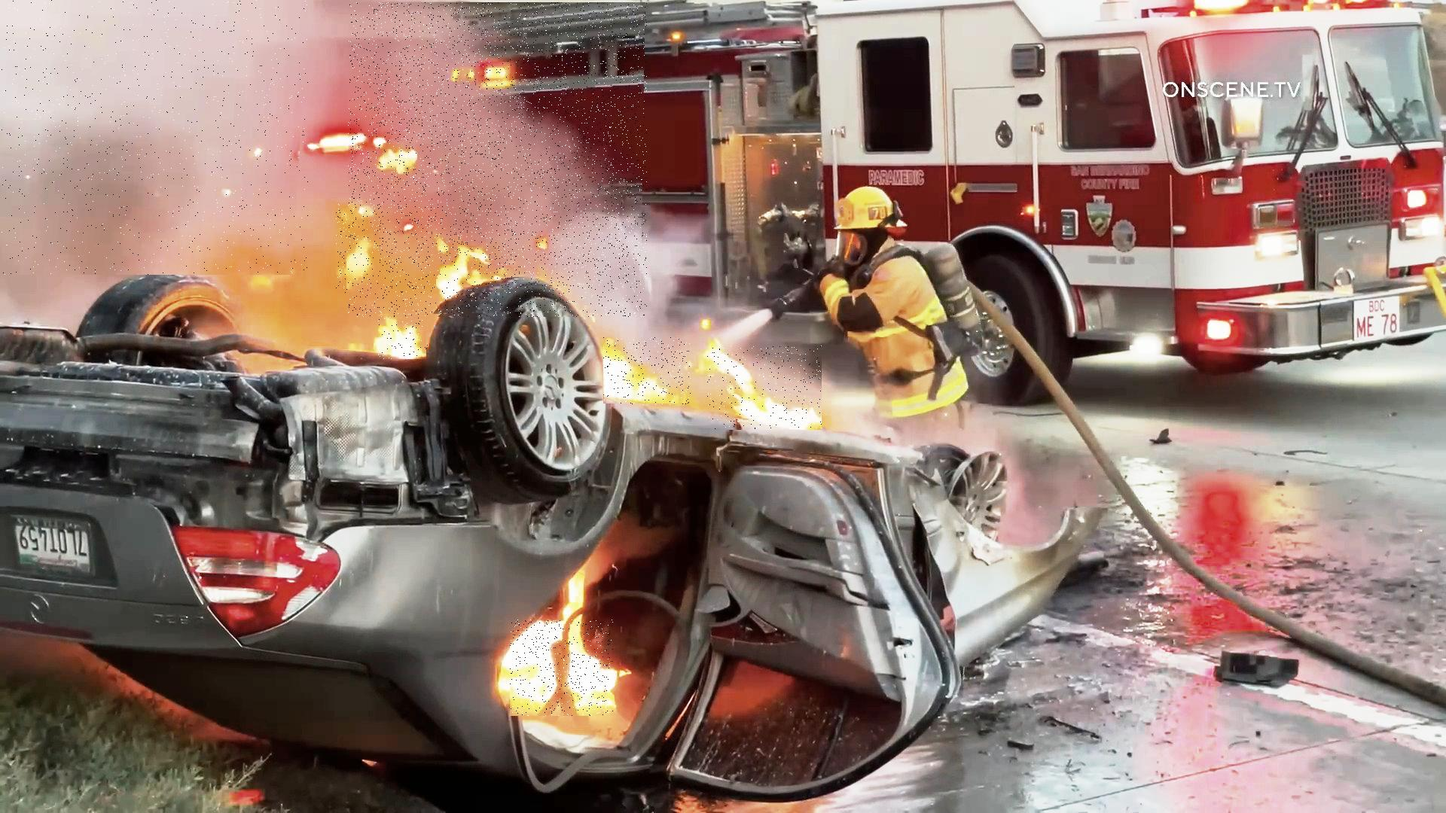fire: (510, 620, 613, 716), (707, 345, 822, 430), (603, 338, 691, 405), (434, 231, 508, 309), (337, 203, 398, 294), (379, 312, 428, 359), (382, 147, 426, 178)
smoke: (349, 2, 648, 317), (2, 0, 308, 275)
